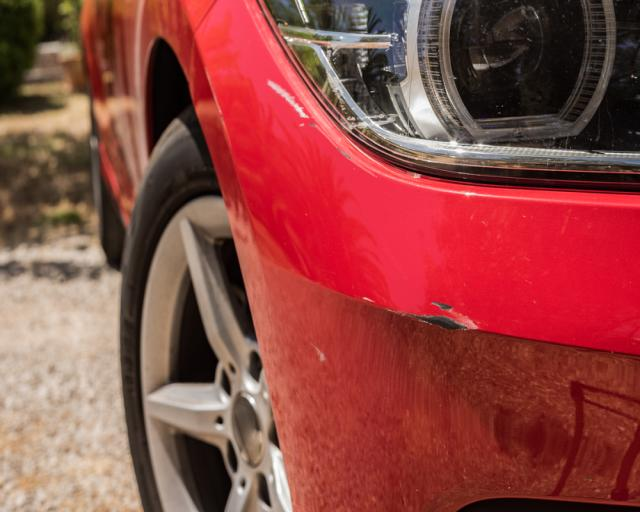scratch: (267, 74, 361, 166), (385, 297, 480, 335)
